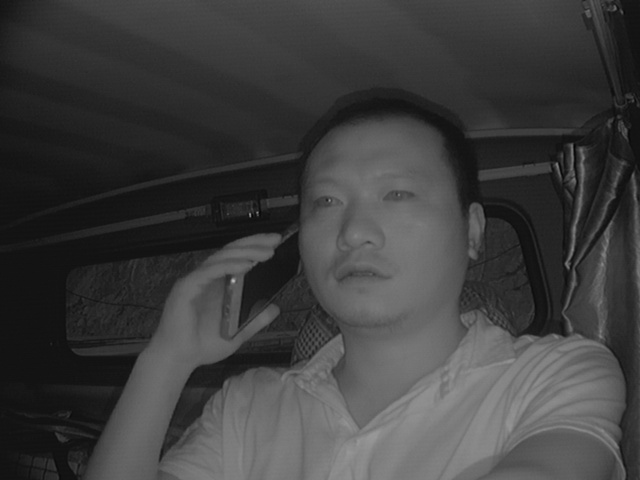hand: (173, 228, 278, 367)
